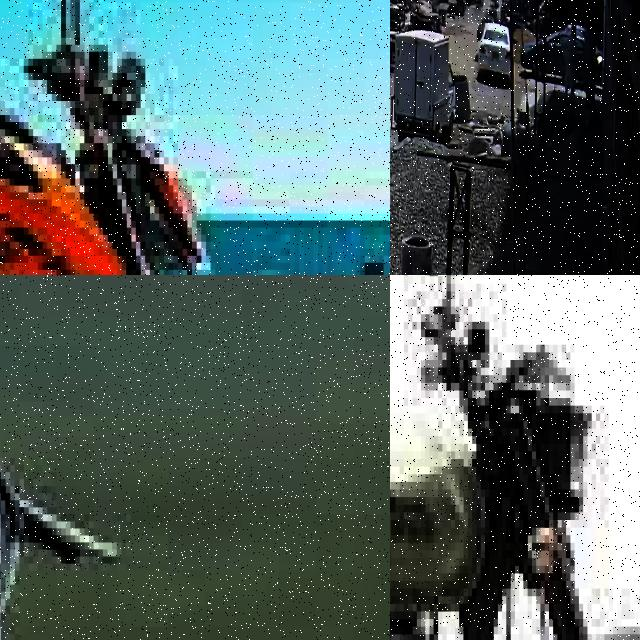bike: (0, 0, 341, 275), (390, 291, 640, 640), (0, 373, 112, 640)
car: (521, 31, 601, 87), (478, 23, 511, 80)
